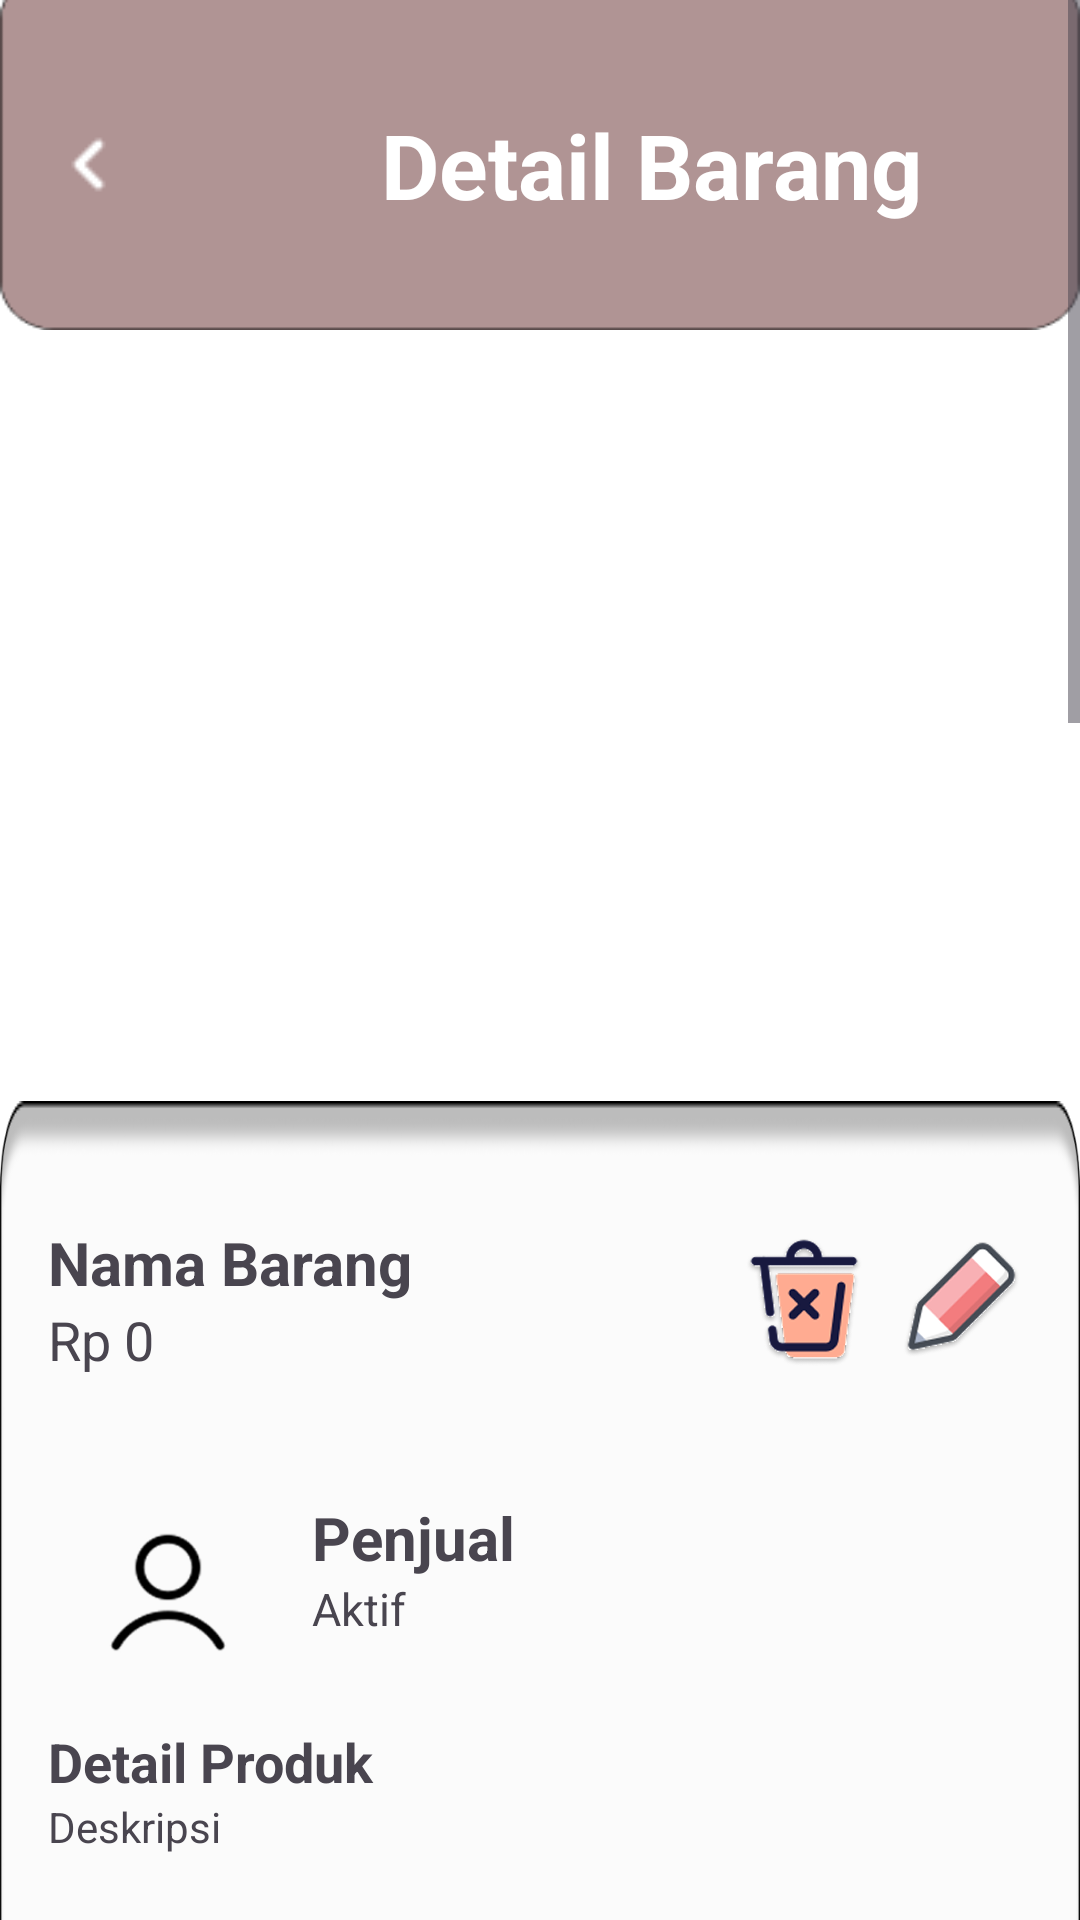

Named icons in this screenshot (1080×1920) and their centers, point (x, y):
Edit Produk: point (961, 1297)
Hapus Produk: point (804, 1300)
Kembali: point (88, 164)
profil: point (168, 1592)
